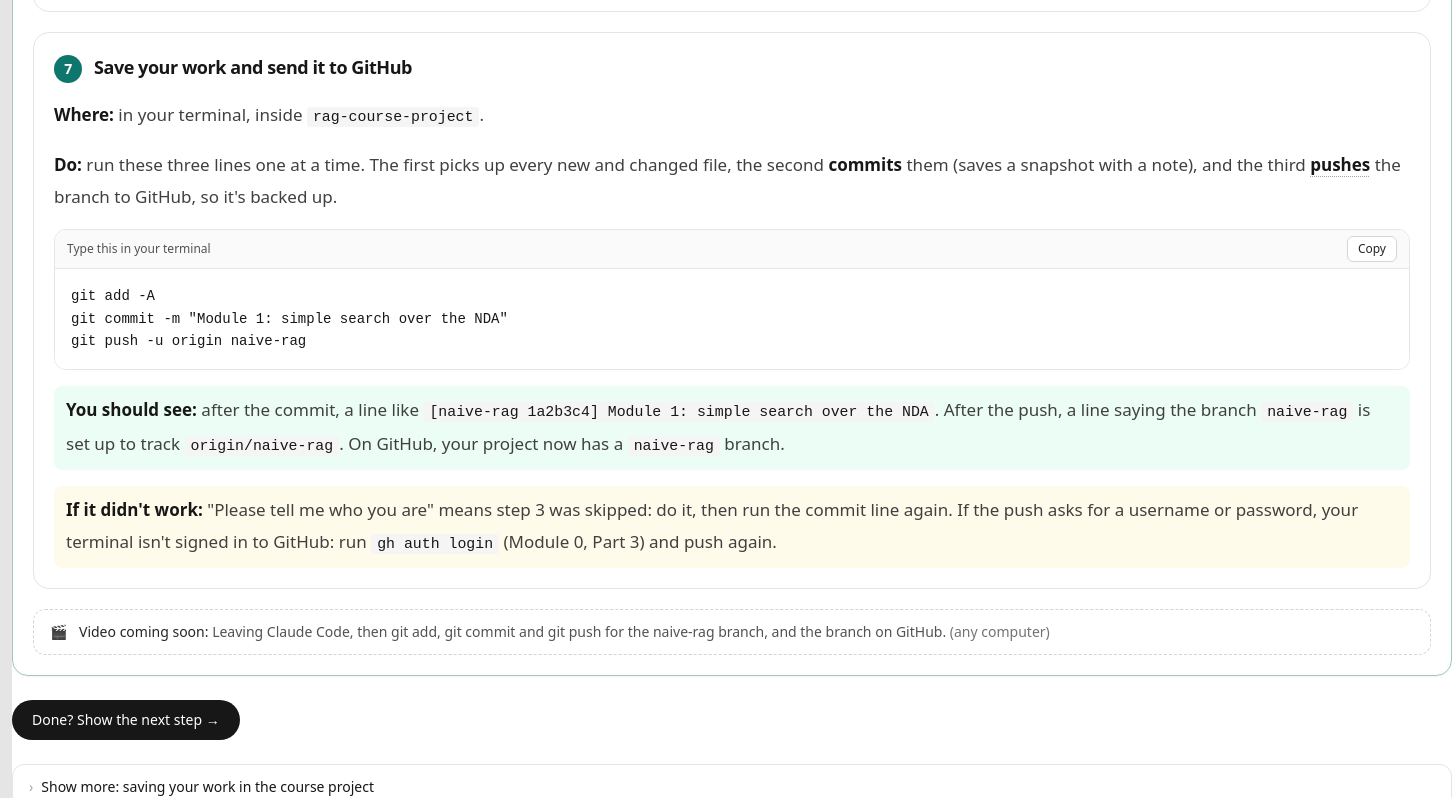
Test: HandsOn › reveals the tiers one at a time: guided, then partial, then solo
The image size is (1452, 798).
(page scrolled)
Click the button "Done? Show the next step →" at [126, 720], box [12,700,240,740]
(page scrolled)
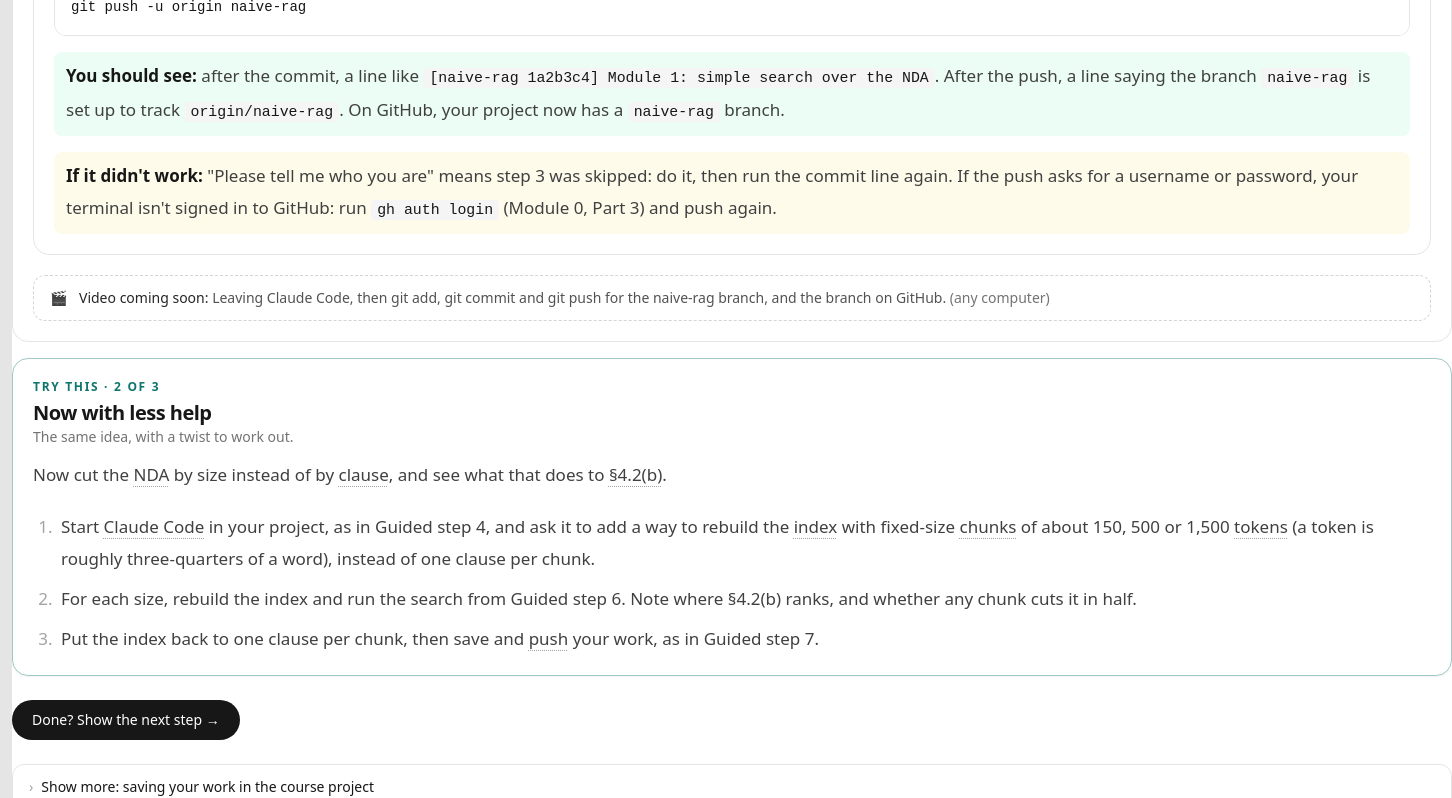
Click the button "Done? Show the next step →" at [126, 720], box [12,700,240,740]
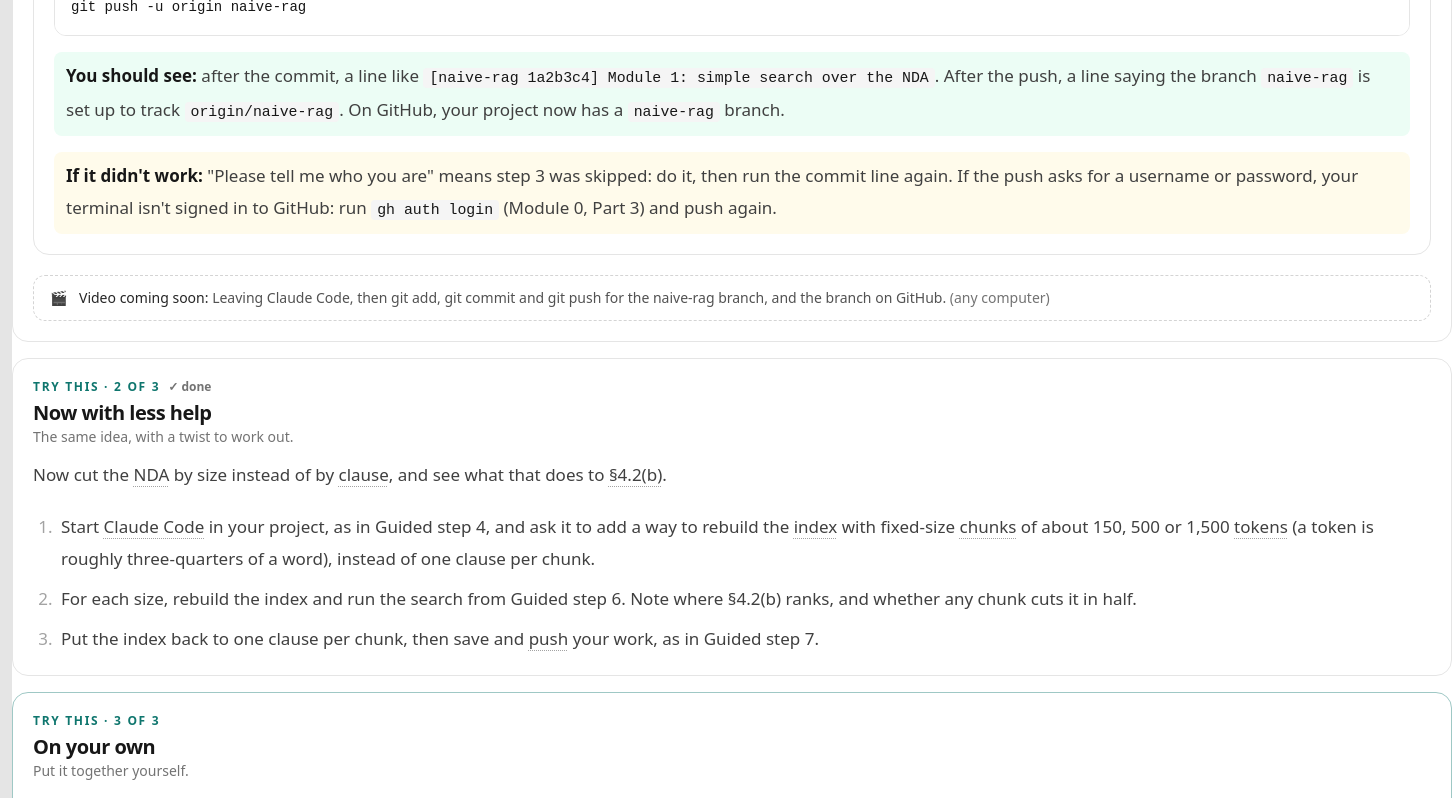
Expected: the button "Show the next step" is gone
